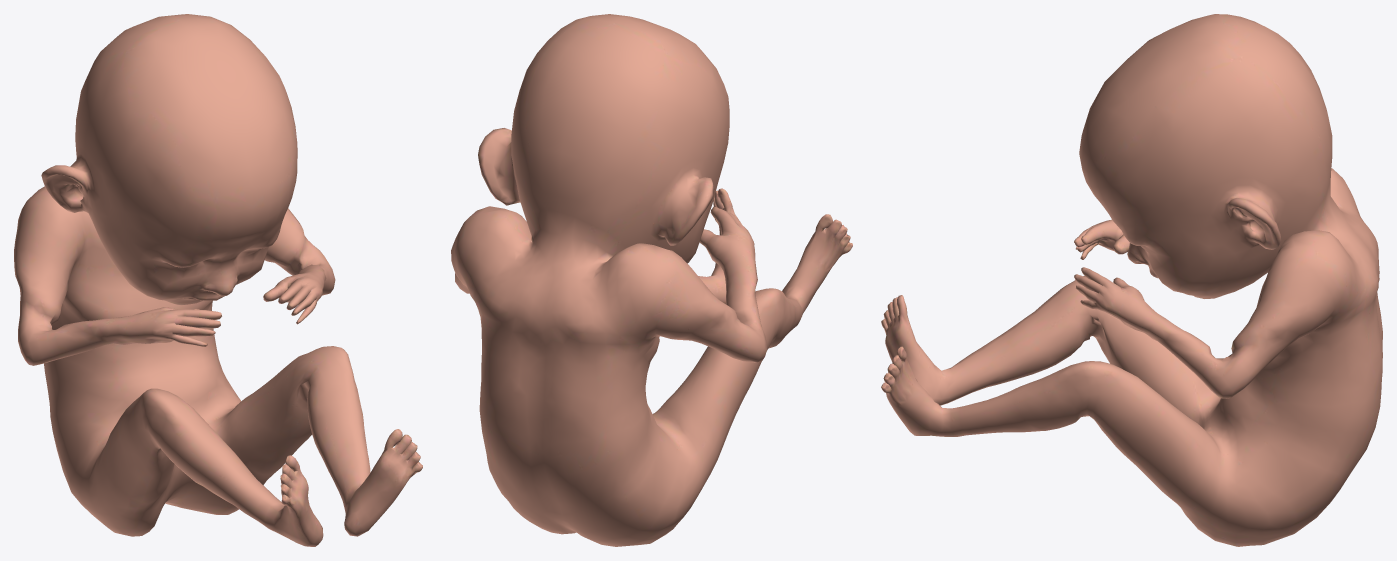
The picture shows the model from 3 angles, left to right: view 1: azimuth 30°, elevation 25°; view 2: azimuth 150°, elevation 25°; view 3: azimuth 270°, elevation 25°; orthographic projection.
Visible parts, largest first — view 1: Baby; view 2: Baby; view 3: Baby.
Boxes of the visible parts, x1,y1,x2,y2 form: Baby: (14, 14, 422, 546); Baby: (451, 14, 852, 546); Baby: (881, 14, 1382, 546).
Bounding box in the file's own units: 0.1597 × 0.25 × 0.2274.
1 material, 1 textured.
